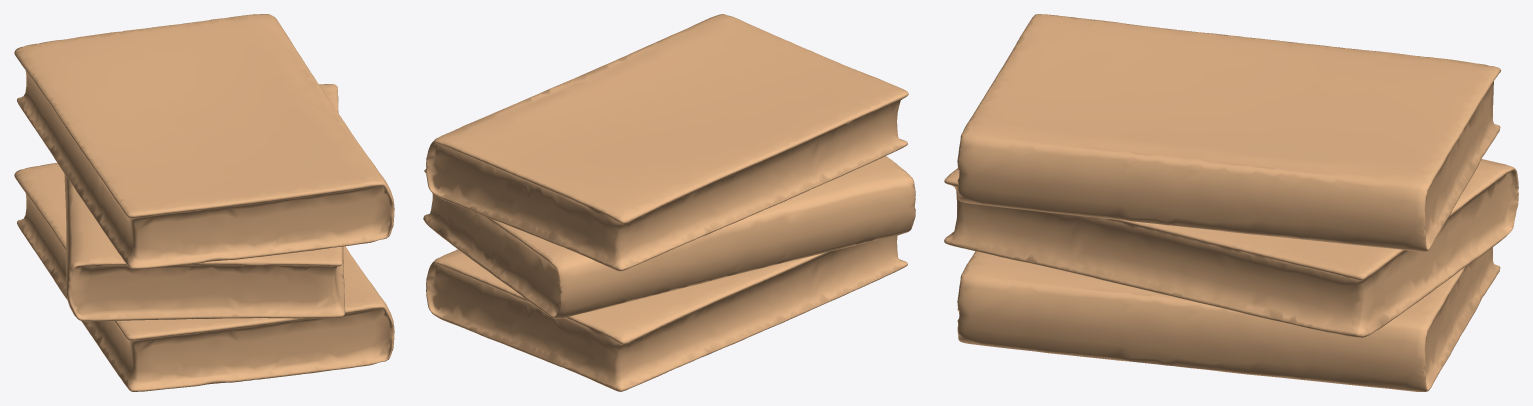
File: decoration.fbx
3 renders of one model, left to right at view 1: azimuth 30°, elevation 25°; view 2: azimuth 150°, elevation 25°; view 3: azimuth 270°, elevation 25°, orthographic. The views are drawn at different scales.
Parts seen in each view (by area): view 1: Aset_props_books_S_vgbkedfjw_LOD0.2; view 2: Aset_props_books_S_vgbkedfjw_LOD0.2; view 3: Aset_props_books_S_vgbkedfjw_LOD0.2.
Boxes of the visible parts, x1=… form: Aset_props_books_S_vgbkedfjw_LOD0.2: x1=14, y1=14, x2=394, y2=391; Aset_props_books_S_vgbkedfjw_LOD0.2: x1=423, y1=14, x2=915, y2=391; Aset_props_books_S_vgbkedfjw_LOD0.2: x1=944, y1=14, x2=1518, y2=391.
Bounding box in the file's own units: 2766 × 1272 × 3115.
